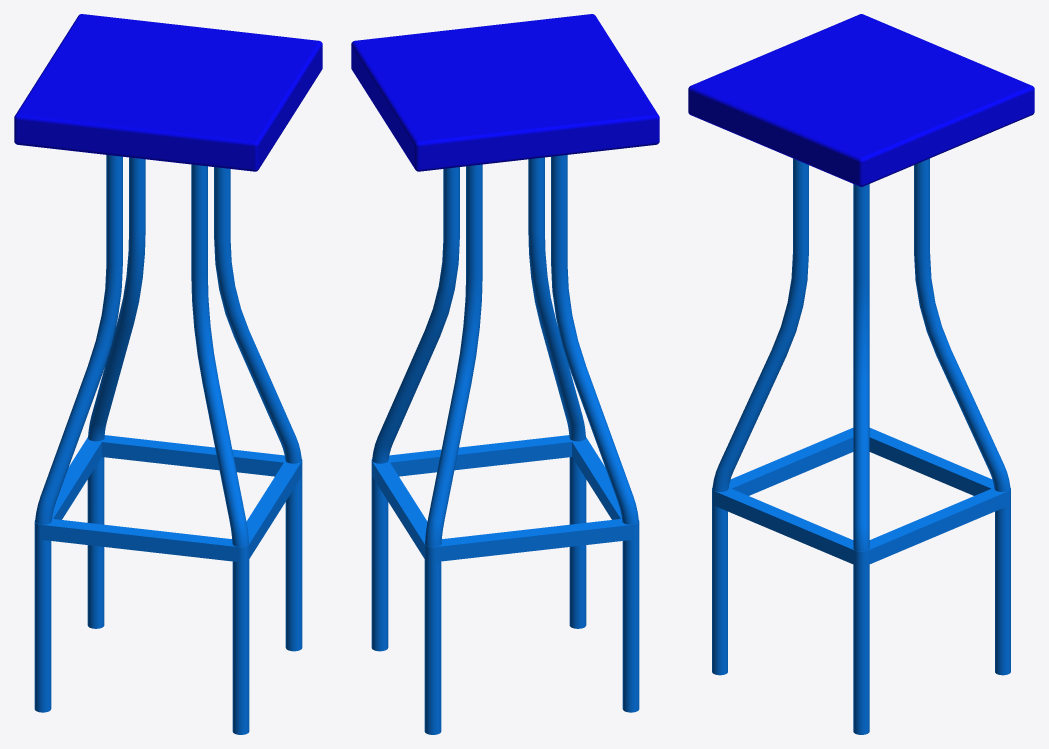
Rendered from Chaises_GLB.gltf.
3 views of the same model, side by side, from view 1: azimuth 30°, elevation 25°; view 2: azimuth 150°, elevation 25°; view 3: azimuth 270°, elevation 25° (orthographic). The views are drawn at different scales.
Parts seen in each view (by area): view 1: chaises; view 2: chaises; view 3: chaises.
Boxes of the visible parts, x1,y1,x2,y2 form: chaises: [14, 14, 322, 734]; chaises: [351, 14, 659, 734]; chaises: [688, 14, 1034, 734].
Size of the model in its own units: 0.4286 by 0.8 by 0.4286.
